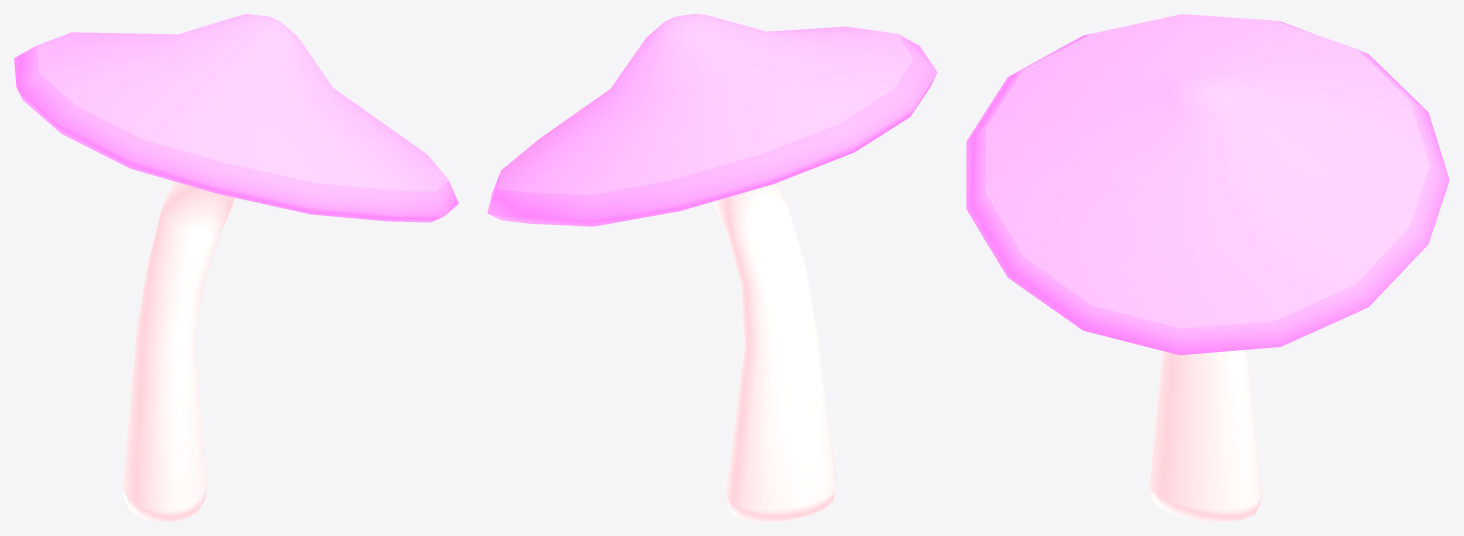
File: cogumelo_G2.fbx
3 renders of one model, left to right at view 1: azimuth 30°, elevation 25°; view 2: azimuth 150°, elevation 25°; view 3: azimuth 270°, elevation 25°, orthographic. The views are drawn at different scales.
Visible parts, largest first — view 1: cogu_G2; view 2: cogu_G2; view 3: cogu_G2.
Part boxes in pixels (box(x1,y1,x2,y2)): cogu_G2: box(14, 14, 458, 521); cogu_G2: box(487, 14, 937, 521); cogu_G2: box(966, 14, 1449, 521).
Size of the model in its own units: 1417 by 1520 by 1625.
